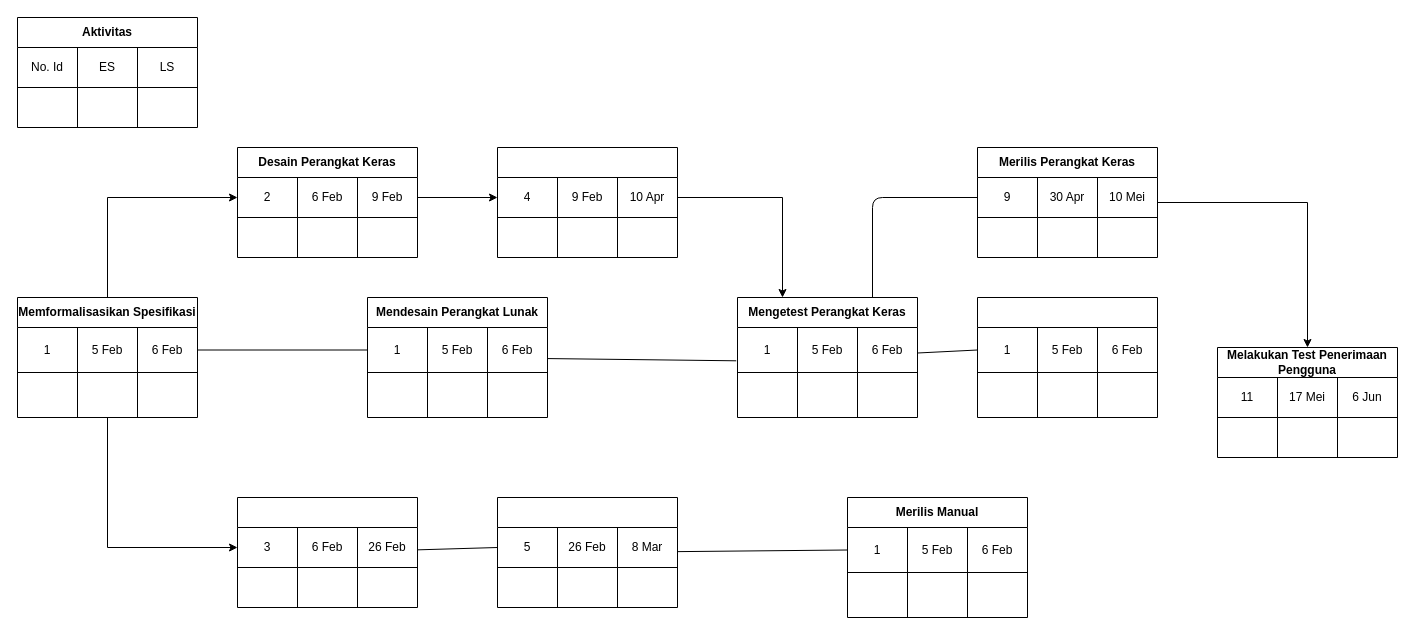
Some shapes in this 1415 by 635 pixel diagram are drawn without their labels. The box of each missing label's shape, as (x1, y1, x2, y2) in pixels:
Membuat Breadboard: (496, 146, 678, 258)
Mengatur Layout Manual: (236, 496, 418, 608)
Menyelesaikan Manual: (496, 496, 678, 608)
Menyelesaikan Perangkat Lunak: (976, 296, 1158, 418)
